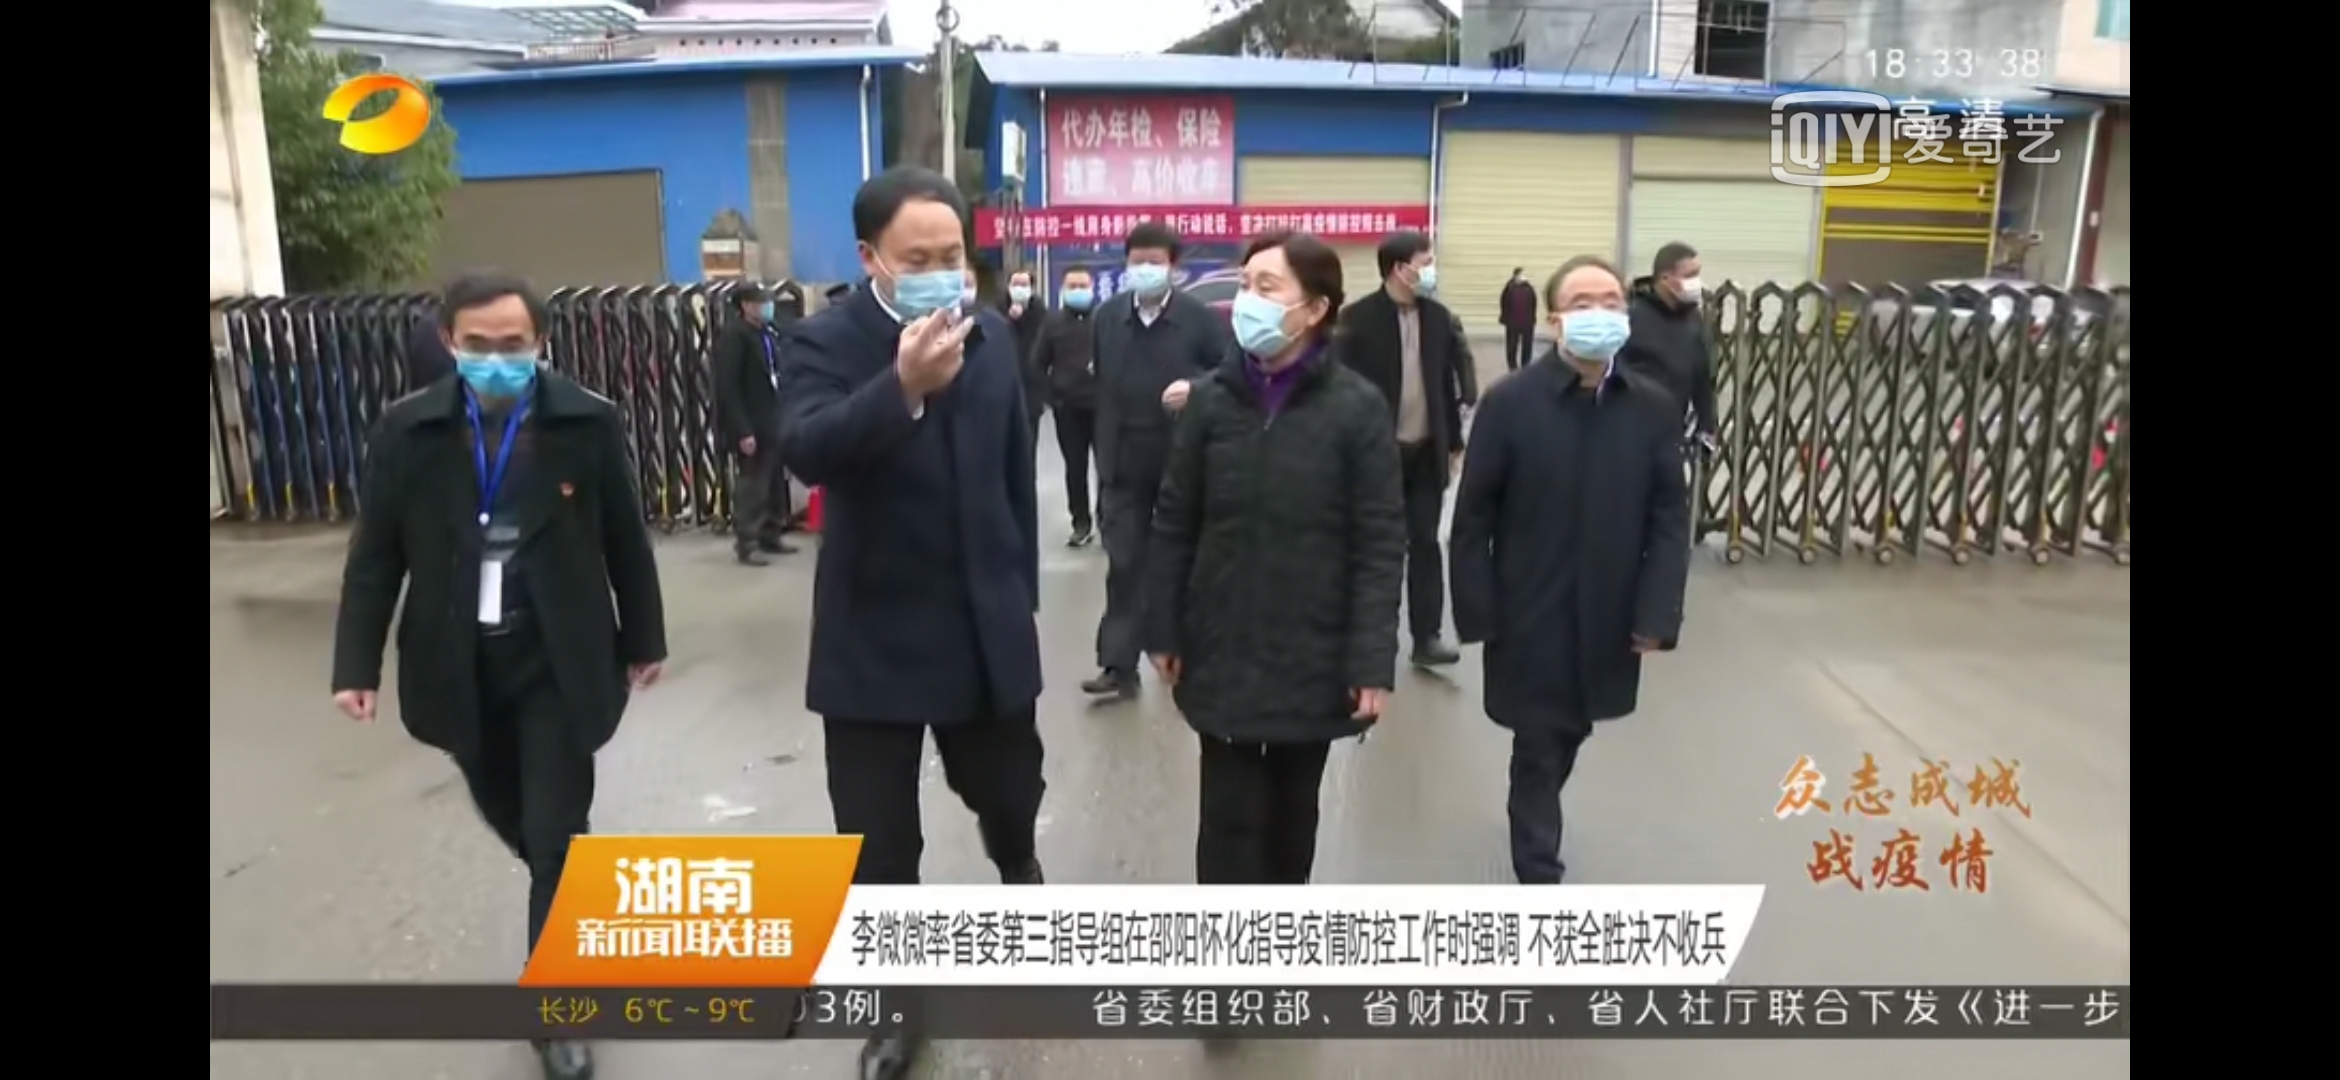correctlyWear: (852, 218, 972, 321), (431, 315, 549, 398), (1233, 263, 1333, 361), (1551, 283, 1631, 365), (1119, 242, 1179, 300), (1389, 248, 1445, 301), (1658, 258, 1713, 309), (743, 291, 779, 327), (1060, 276, 1098, 309), (1007, 274, 1039, 307)
